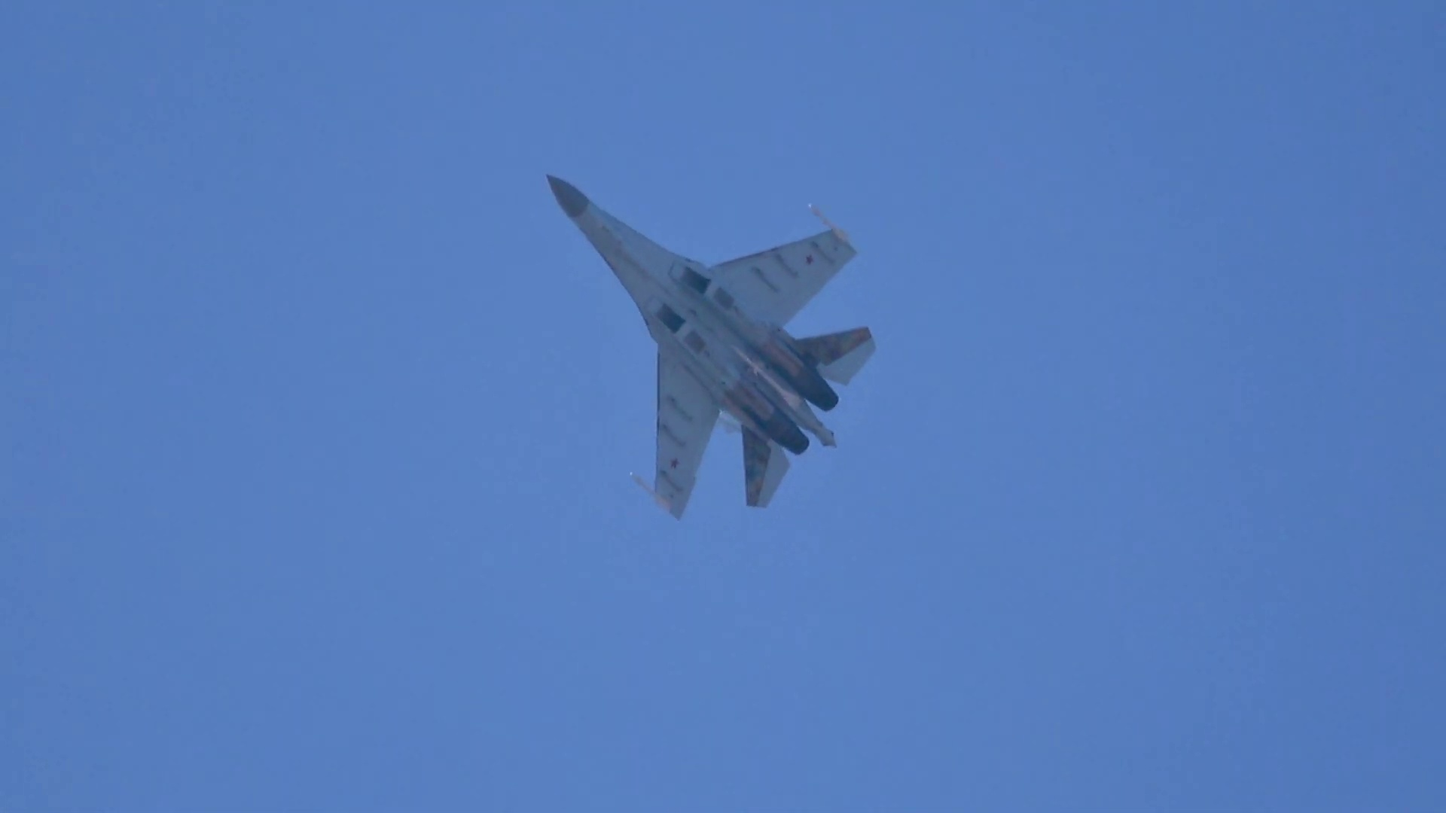Su35: (546, 174, 877, 522)
